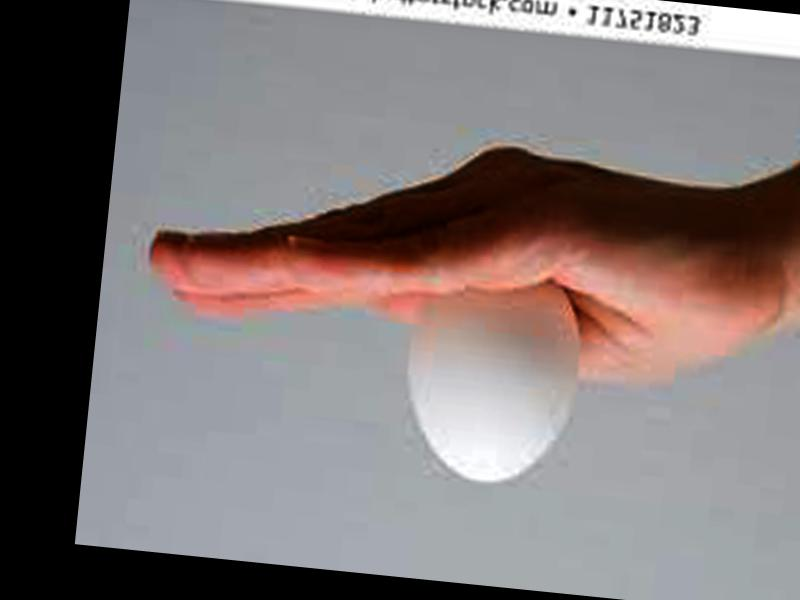Eggs: (398, 267, 578, 487)
